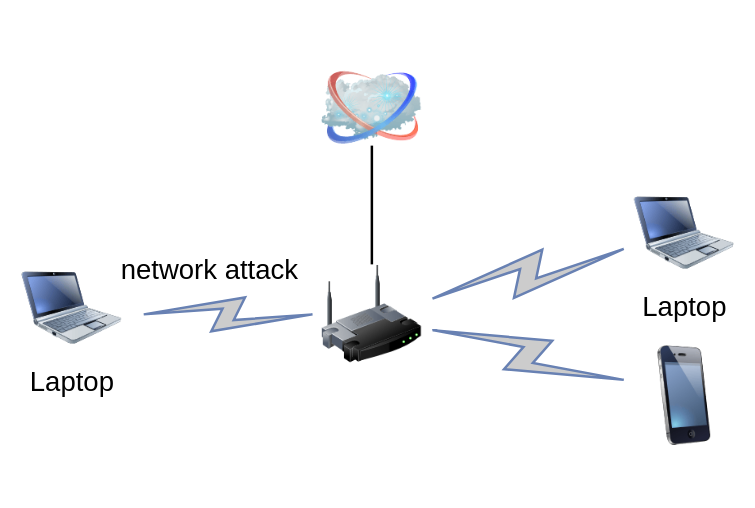
Image size: 755x508. Some labels were removed from this diagram. The centre of each missing label's shape, as x and y in pixels:
Internet: (371,108)
Mobile: (684,395)
